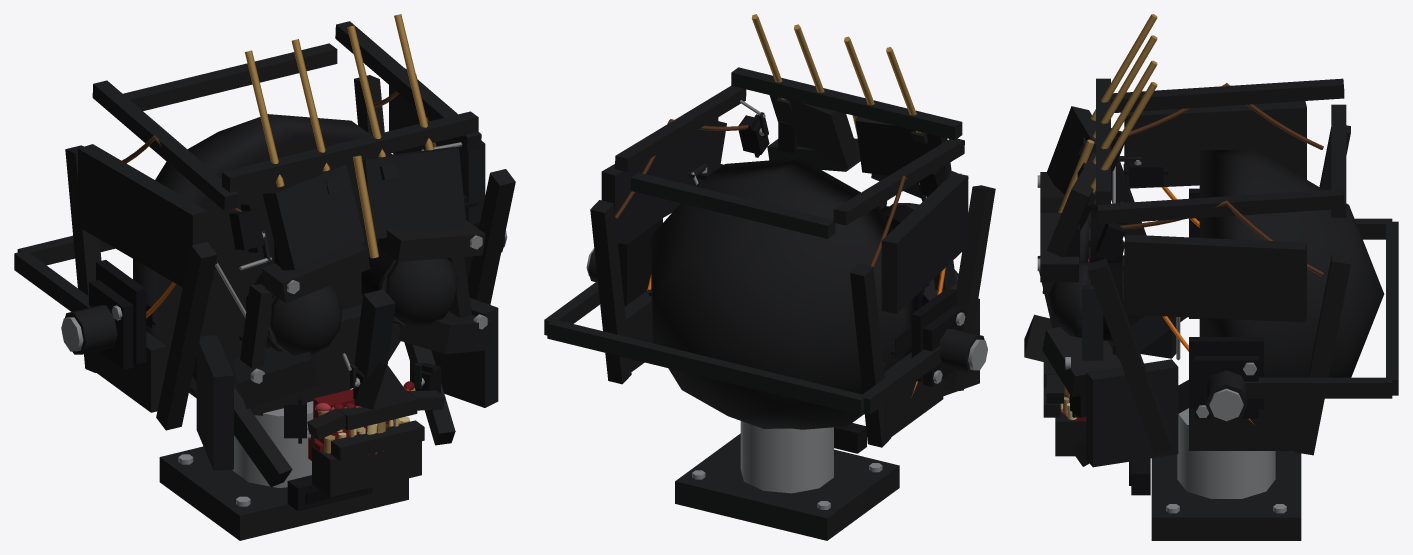
Rendered from robot_head.glb.
The picture shows the model from 3 angles, left to right: view 1: azimuth 30°, elevation 25°; view 2: azimuth 150°, elevation 25°; view 3: azimuth 270°, elevation 25°; orthographic projection. The views are drawn at different scales.
Visible parts, largest first — view 1: Cranium, TempleUpperR, NeckPlate, ForeheadL, ForeheadR, CrownFront, TempleRibR, CheekPlateR, CrownBack, CrownRailR, Shell, Chin (+38 smaller); view 2: Cranium, NeckPlate, TempleUpperR, Band, NeckBearing, TempleUpperL, CrownFront, CrownBack, TempleBackL, TempleBackR, TempleRibR, ForeheadL (+19 smaller); view 3: Cranium, TempleUpperL, TempleUpperR, NeckPlate, CheekPlateL, CrownRailL, TempleLowerL, NeckBearing, TempleRibL, CrownRailR, TempleBackL, ArmL (+35 smaller).
Boxes of the visible parts, x1,y1,x2,y2 form: Cranium: (133, 114, 400, 415); TempleUpperR: (78, 144, 207, 287); NeckPlate: (159, 446, 408, 540); ForeheadL: (362, 147, 466, 238); ForeheadR: (262, 164, 364, 270); CrownFront: (222, 111, 478, 192); TempleRibR: (156, 241, 217, 430); CheekPlateR: (196, 335, 233, 470); CrownBack: (123, 43, 337, 110); CrownRailR: (92, 80, 238, 210); Shell: (382, 258, 457, 327); Chin: (312, 441, 421, 497); Cranium: (651, 158, 921, 429); NeckPlate: (675, 433, 899, 540); TempleUpperR: (881, 173, 968, 313); Band: (547, 319, 863, 414); NeckBearing: (740, 421, 833, 493); TempleUpperL: (601, 117, 718, 243); CrownFront: (731, 67, 962, 140); CrownBack: (631, 172, 835, 238); TempleBackL: (590, 200, 631, 384); TempleBackR: (850, 263, 891, 447); TempleRibR: (943, 185, 995, 391); ForeheadL: (769, 95, 859, 168); Cranium: (1199, 150, 1384, 377); TempleUpperL: (1124, 234, 1306, 322); TempleUpperR: (1124, 101, 1306, 188); NeckPlate: (1151, 451, 1301, 540); CheekPlateL: (1086, 359, 1178, 467); CrownRailL: (1098, 189, 1344, 224); TempleLowerL: (1189, 398, 1306, 450); NeckBearing: (1177, 408, 1275, 498); TempleRibL: (1088, 258, 1172, 455); CrownRailR: (1111, 78, 1344, 112); TempleBackL: (1294, 254, 1350, 455); ArmL: (1244, 377, 1392, 398).
Size of the model in its own units: 0.43 by 0.4684 by 0.3501.
Materials: 15 (2 with a texture image).
